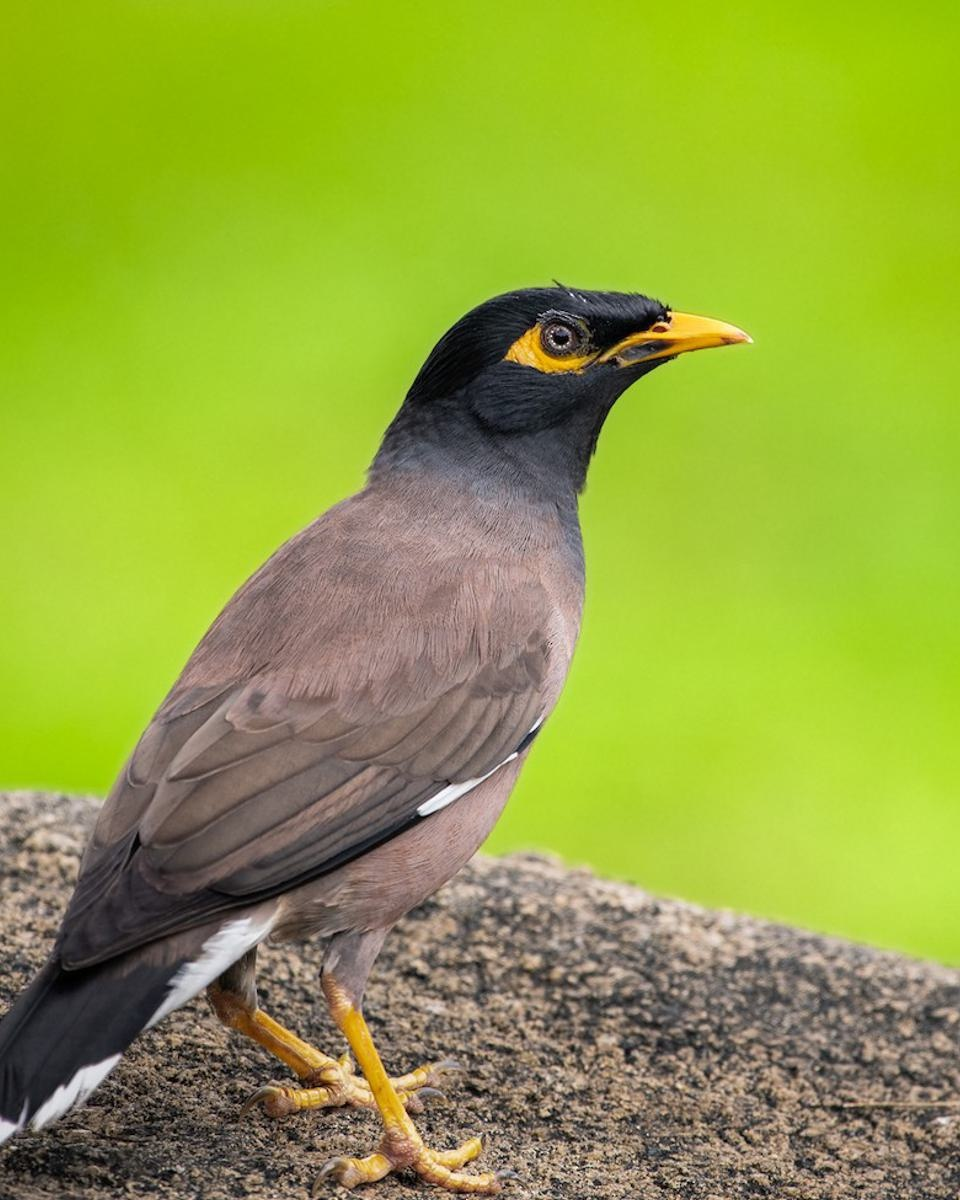myna: (1, 234, 805, 1200)
